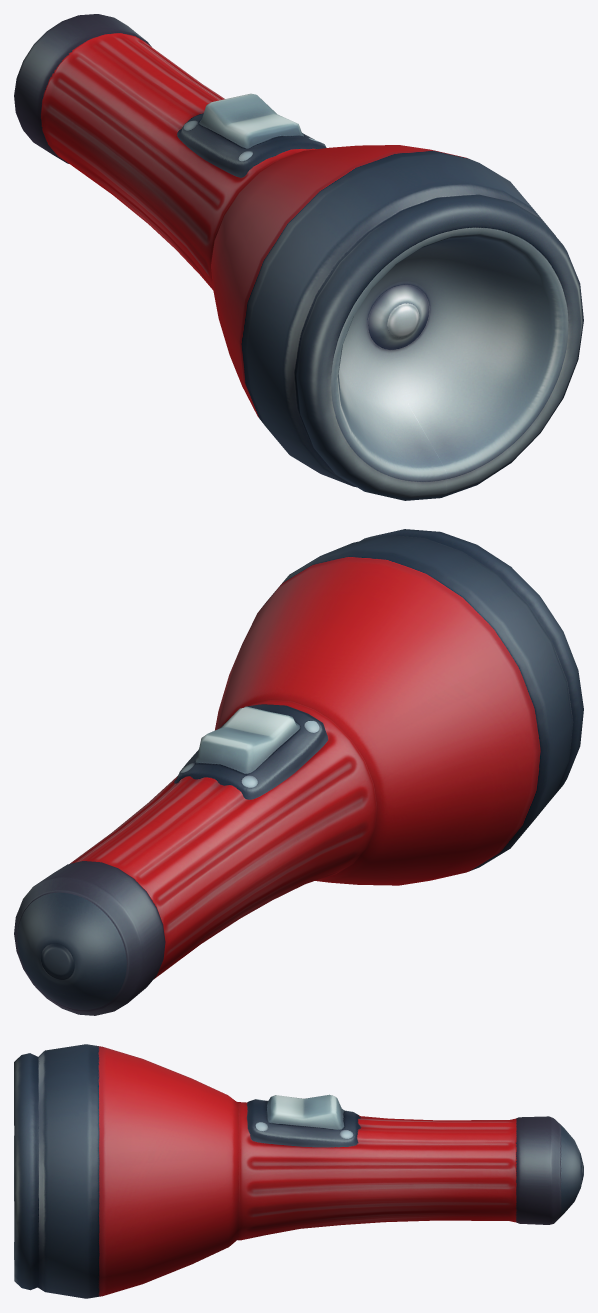
Rendered from Flashlight.FBX.
The picture shows the model from 3 angles, top to bottom: view 1: azimuth 30°, elevation 25°; view 2: azimuth 150°, elevation 25°; view 3: azimuth 270°, elevation 25°; orthographic projection. The views are drawn at different scales.
Visible parts, largest first — view 1: Flashlight; view 2: Flashlight; view 3: Flashlight.
Boxes of the visible parts, <box> form: Flashlight: <box>14,14,583,500</box>; Flashlight: <box>14,529,583,1015</box>; Flashlight: <box>14,1044,583,1298</box>.
Size of the model in its own units: 15.57 by 34.79 by 15.57.
1 material, 1 textured.
